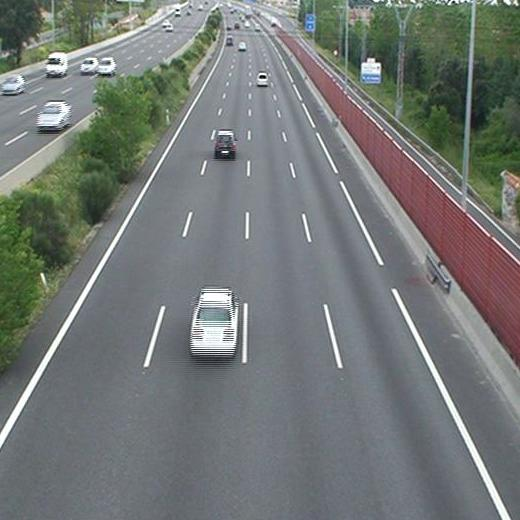car: (191, 289, 238, 353), (215, 132, 237, 156), (257, 73, 269, 86), (238, 41, 246, 50)
van: (225, 35, 232, 45)
